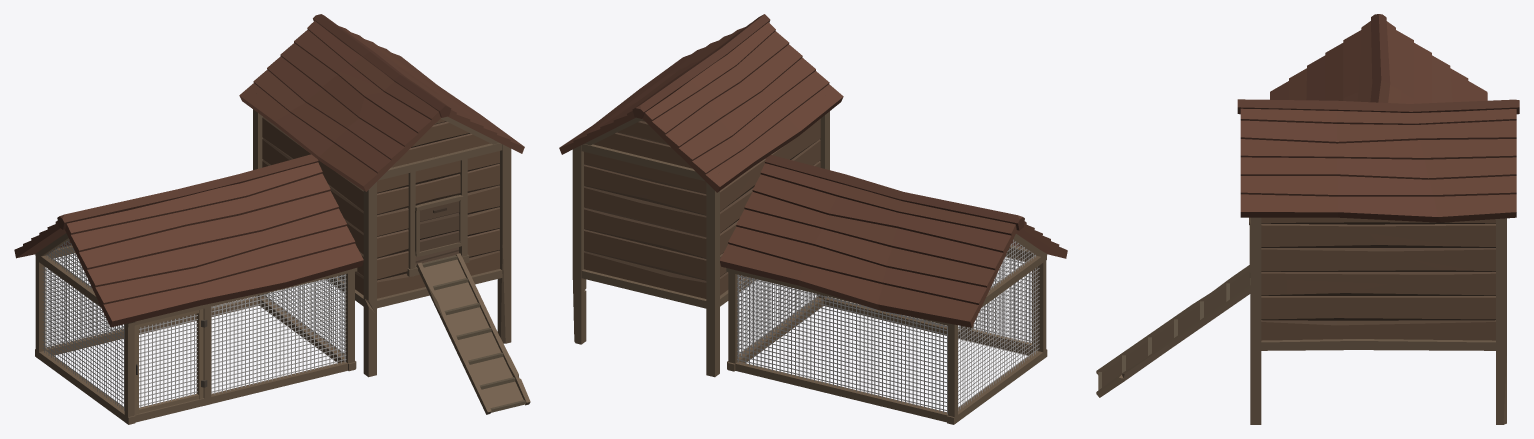
Rendered from SM_Props_Farm_ChickenCoop_Cage.fbx.
The picture shows the model from 3 angles, left to right: view 1: azimuth 30°, elevation 25°; view 2: azimuth 150°, elevation 25°; view 3: azimuth 270°, elevation 25°; orthographic projection. The views are drawn at different scales.
Parts seen in each view (by area): view 1: SM_Props_Farm_ChickenCoop_Cage; view 2: SM_Props_Farm_ChickenCoop_Cage; view 3: SM_Props_Farm_ChickenCoop_Cage.
Boxes of the visible parts, bbox=[...] form: SM_Props_Farm_ChickenCoop_Cage: bbox=[14, 14, 530, 424]; SM_Props_Farm_ChickenCoop_Cage: bbox=[559, 14, 1067, 424]; SM_Props_Farm_ChickenCoop_Cage: bbox=[1096, 14, 1519, 424].
Bounding box in the file's own units: 422 × 258 × 345.
